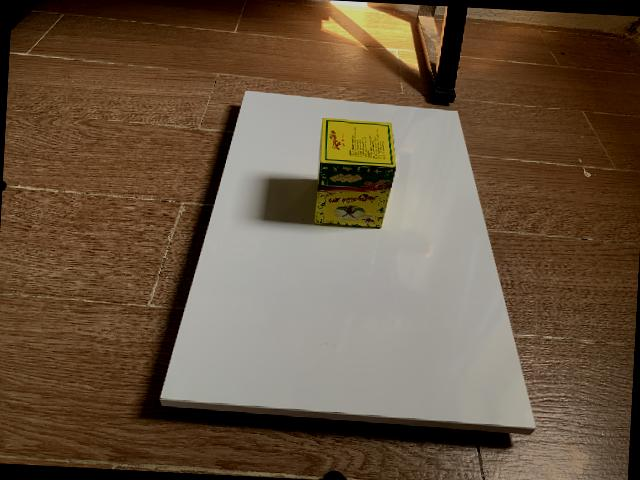luong_kho: (313, 117, 396, 230)
